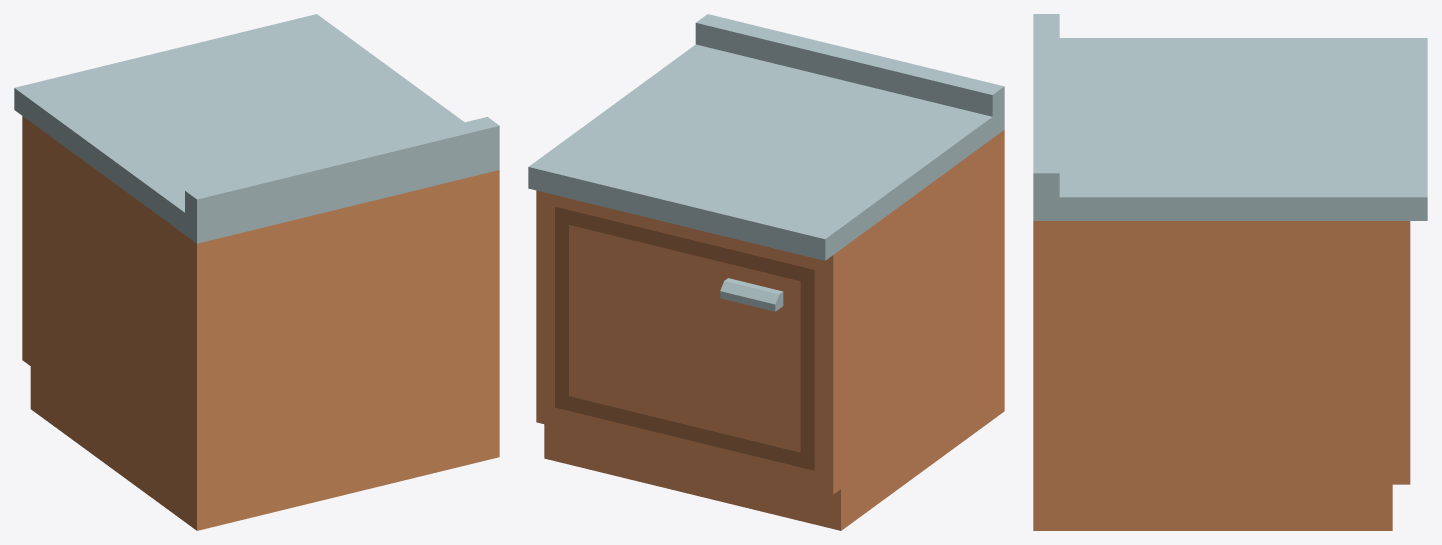
Rendered from kitchencabinet.gltf.
3 views of the same model, side by side, from view 1: azimuth 30°, elevation 25°; view 2: azimuth 150°, elevation 25°; view 3: azimuth 270°, elevation 25° (orthographic). The views are drawn at different scales.
Visible parts, largest first — view 1: kitchencabinet; view 2: kitchencabinet; view 3: kitchencabinet.
Part boxes in pixels (x1,y1,x2,y2): kitchencabinet: (14,14,499,530); kitchencabinet: (528,14,1004,530); kitchencabinet: (1033,14,1427,530).
Size of the model in its own units: 0.43 by 0.45 by 0.45.
1 material, 1 textured.
